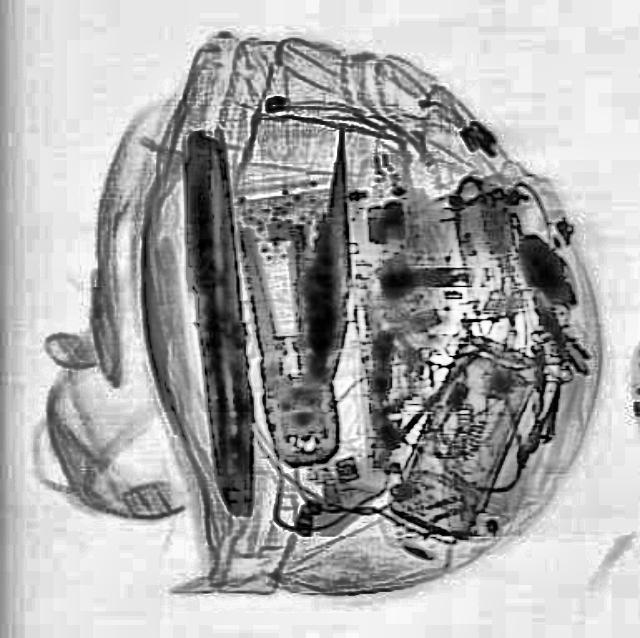Pliers: (222, 124, 374, 468)
